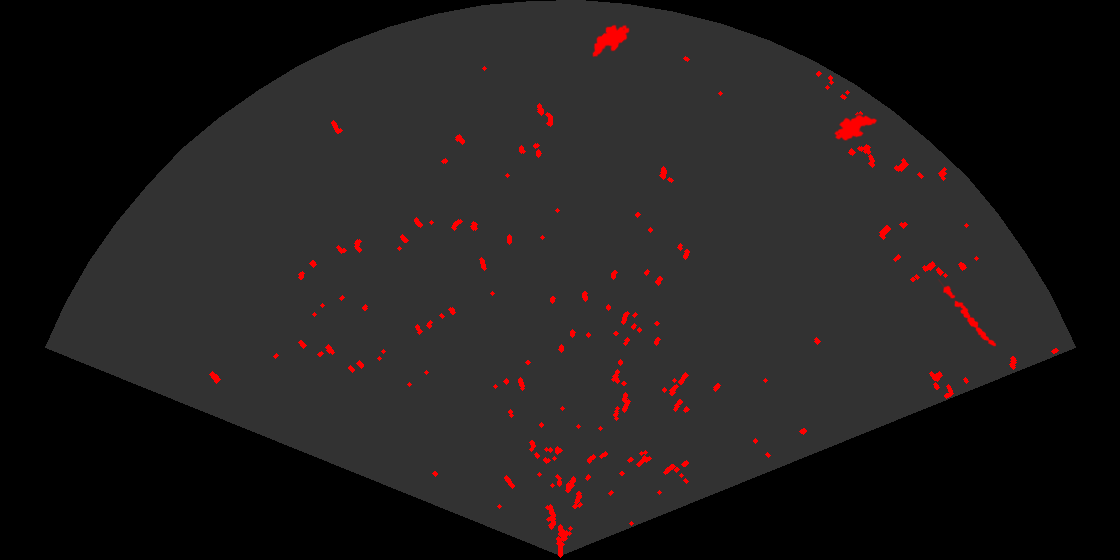AUV: (591, 23, 631, 59), (833, 113, 879, 142)
chain: (936, 279, 998, 348)
